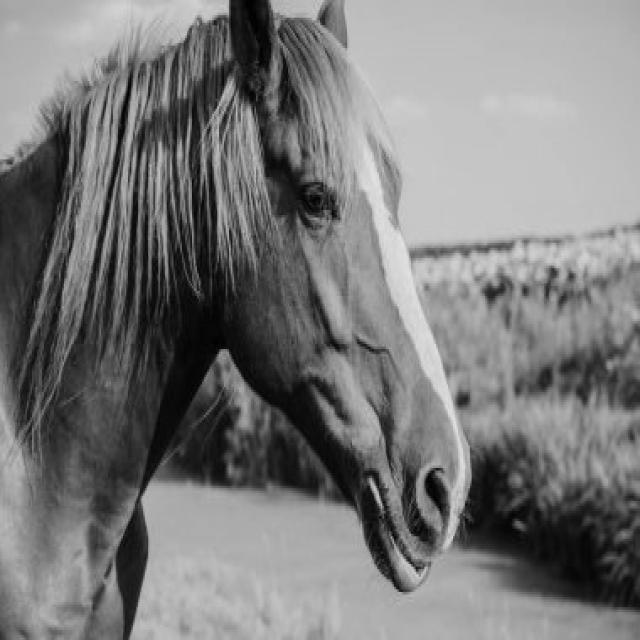Animal: (0, 0, 484, 626)
